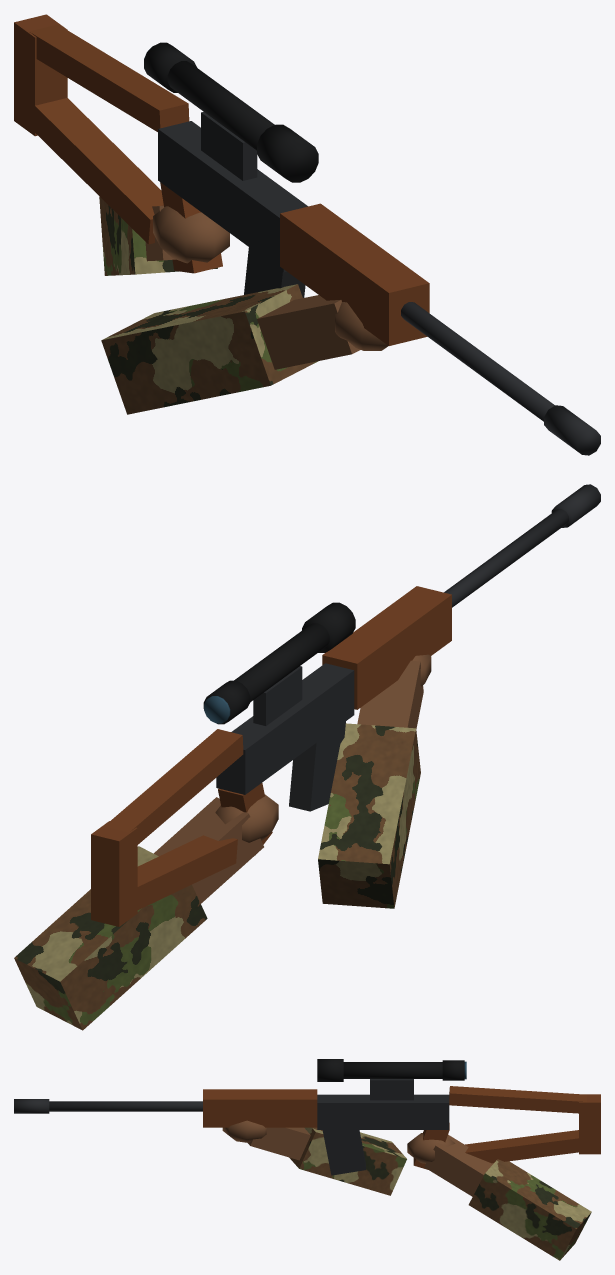
The model's file is fp_svd.fbx.
3 views of the same model, one above another, from view 1: azimuth 30°, elevation 25°; view 2: azimuth 150°, elevation 25°; view 3: azimuth 270°, elevation 25° (orthographic). The views are drawn at different scales.
Visible parts, largest first — view 1: Weapon; view 2: Weapon; view 3: Weapon.
Part boxes in pixels (x1,y1,x2,y2): Weapon: (14,14,600,455); Weapon: (14,484,600,1030); Weapon: (14,1059,600,1260).
Size of the model in its own units: 0.3538 by 0.428 by 1.34.
